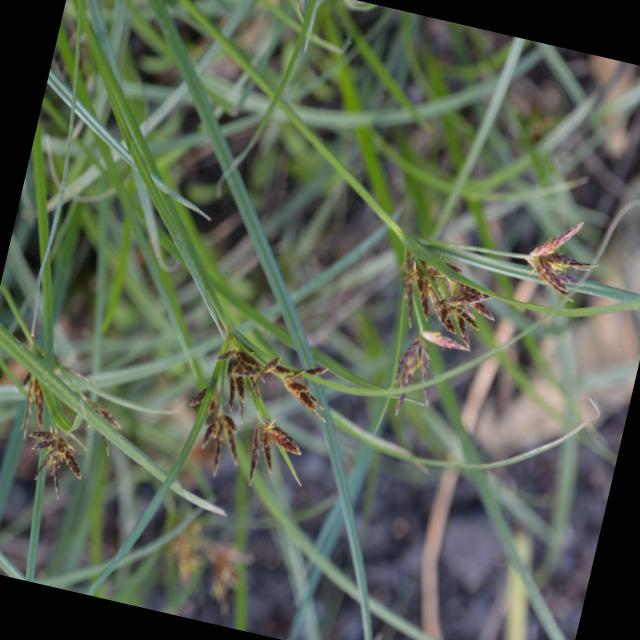cyperus: (159, 293, 354, 510), (367, 236, 512, 444), (0, 339, 141, 508), (511, 198, 609, 319)
